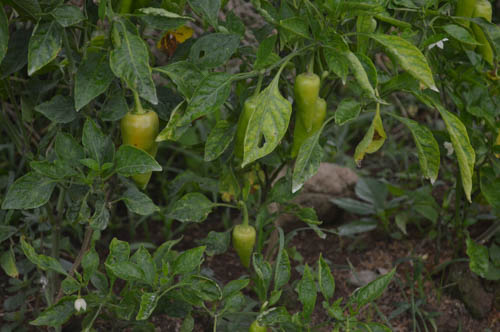ChiliPepper: (291, 101, 334, 157), (122, 109, 156, 176), (239, 100, 260, 155), (231, 224, 256, 264), (296, 76, 313, 127)
